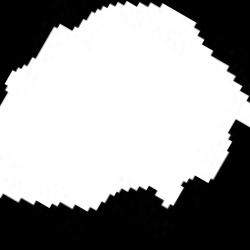spot: (1, 3, 249, 210)
